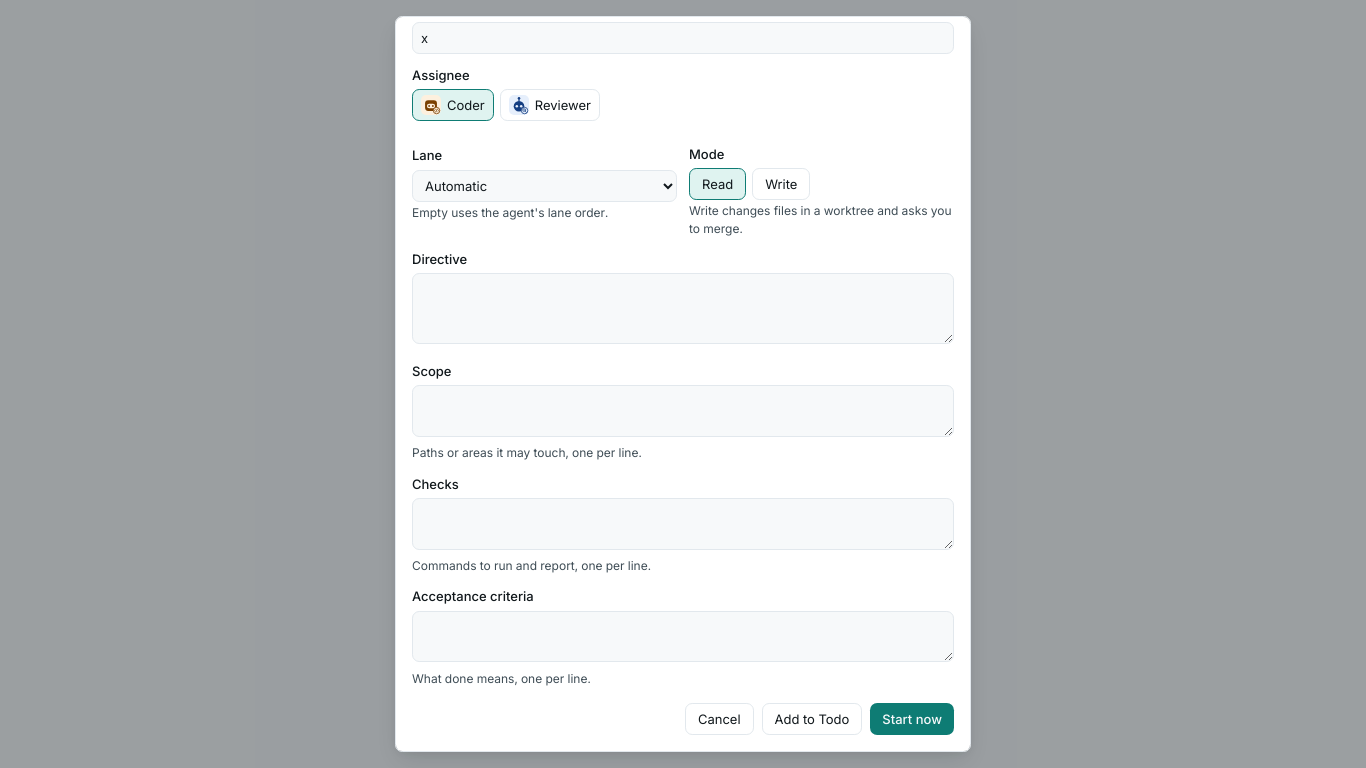
it: TaskBuilder › keeps the dialog open and shows the server's reason when it refuses
The image size is (1366, 768).
(page scrolled)
Click the button "Start now": (912, 719) [870,703,954,735]
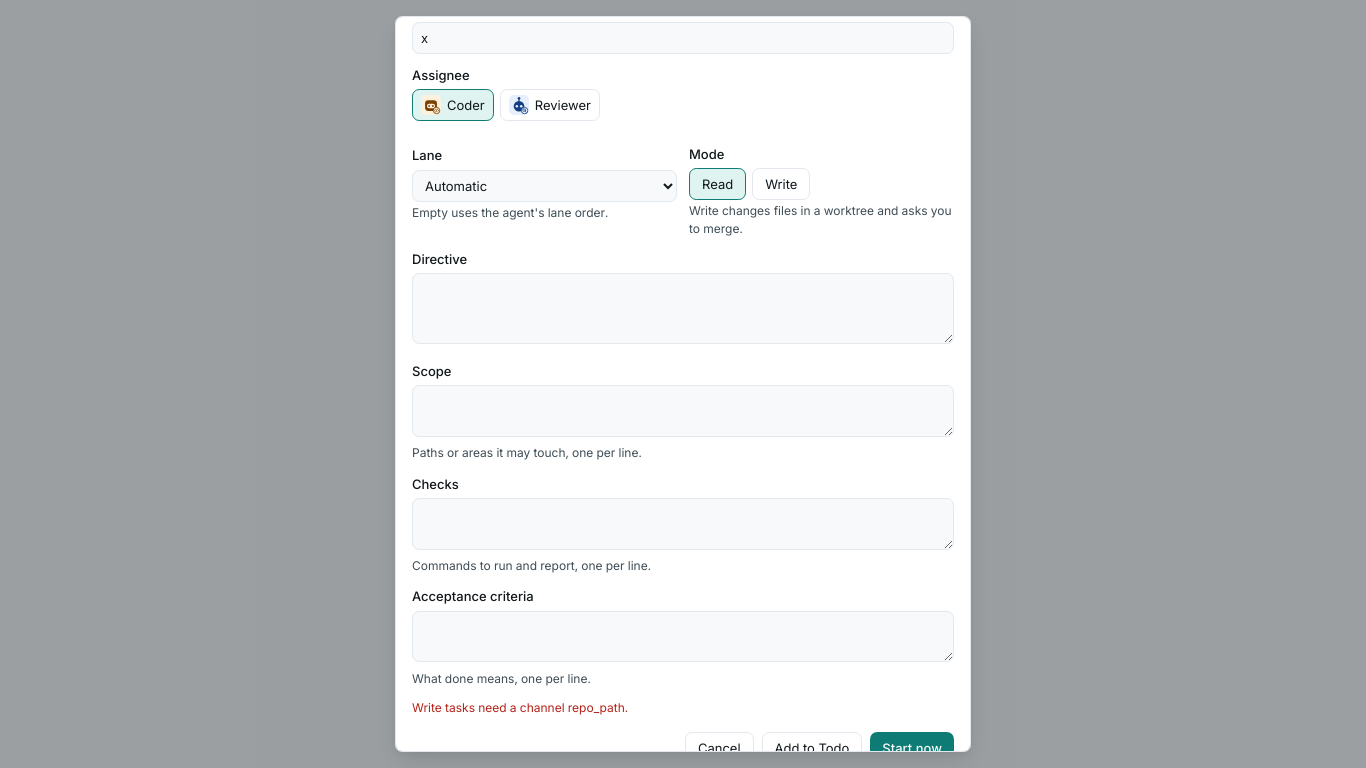
Check: the message reads "Write tasks need a channel repo_path.", box [412,700,628,715]
